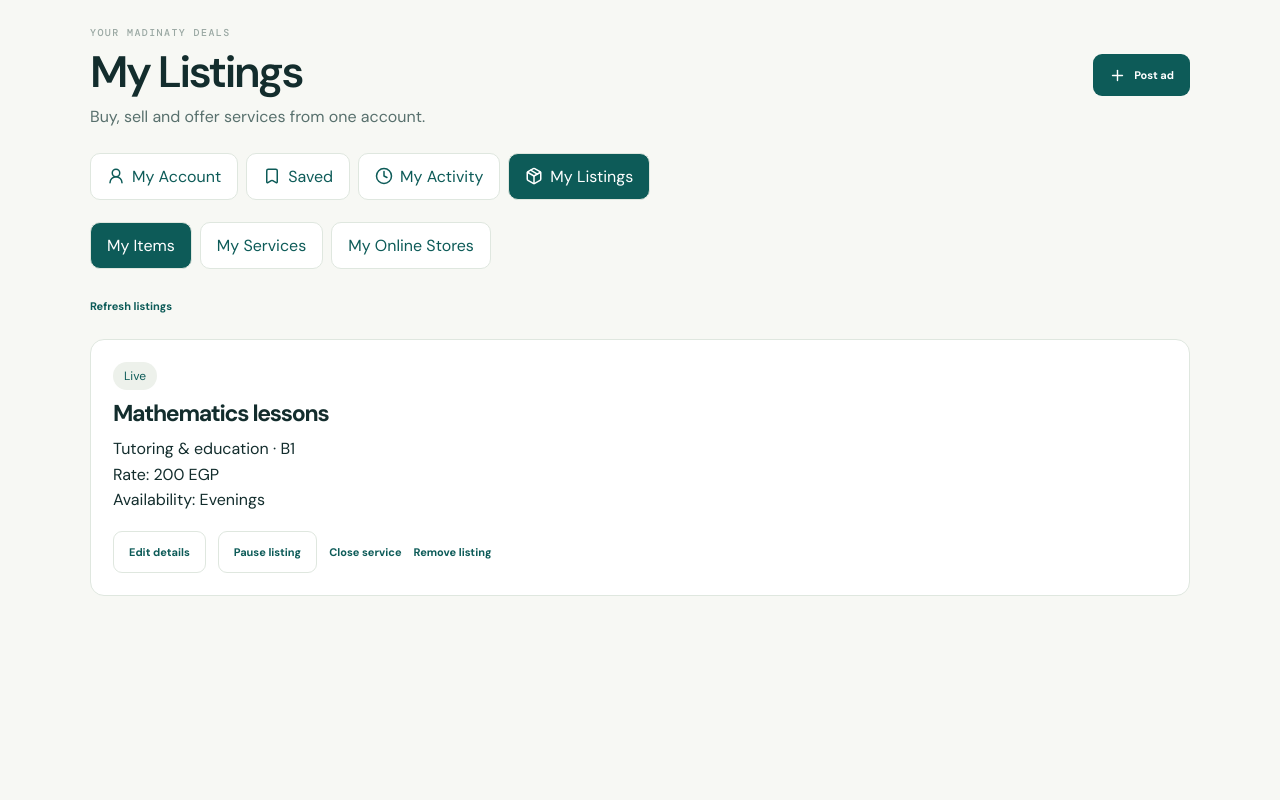
Test: requires confirmation before closing a service and sends its version
Click the button "Close service" at (365, 552), box [329,537,402,567]
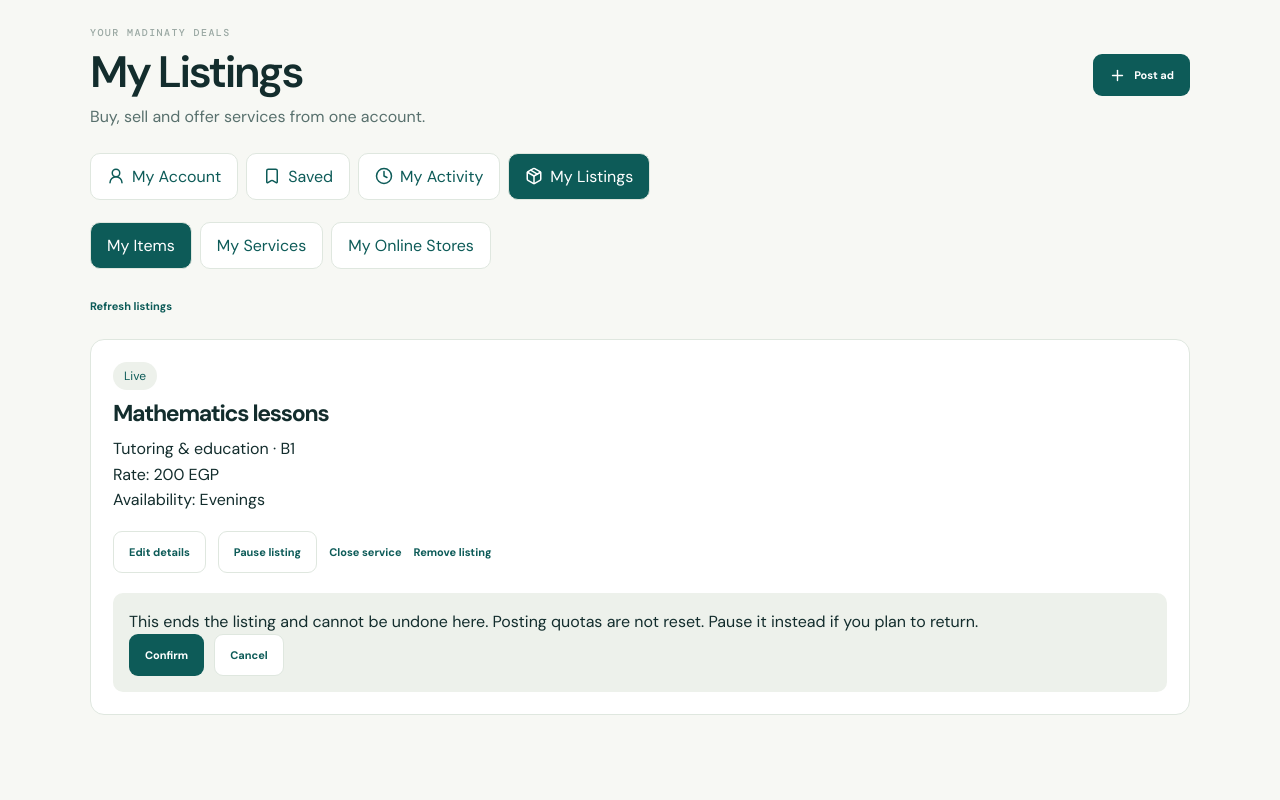
Click the button "Confirm" at (167, 655), box [129,634,204,676]
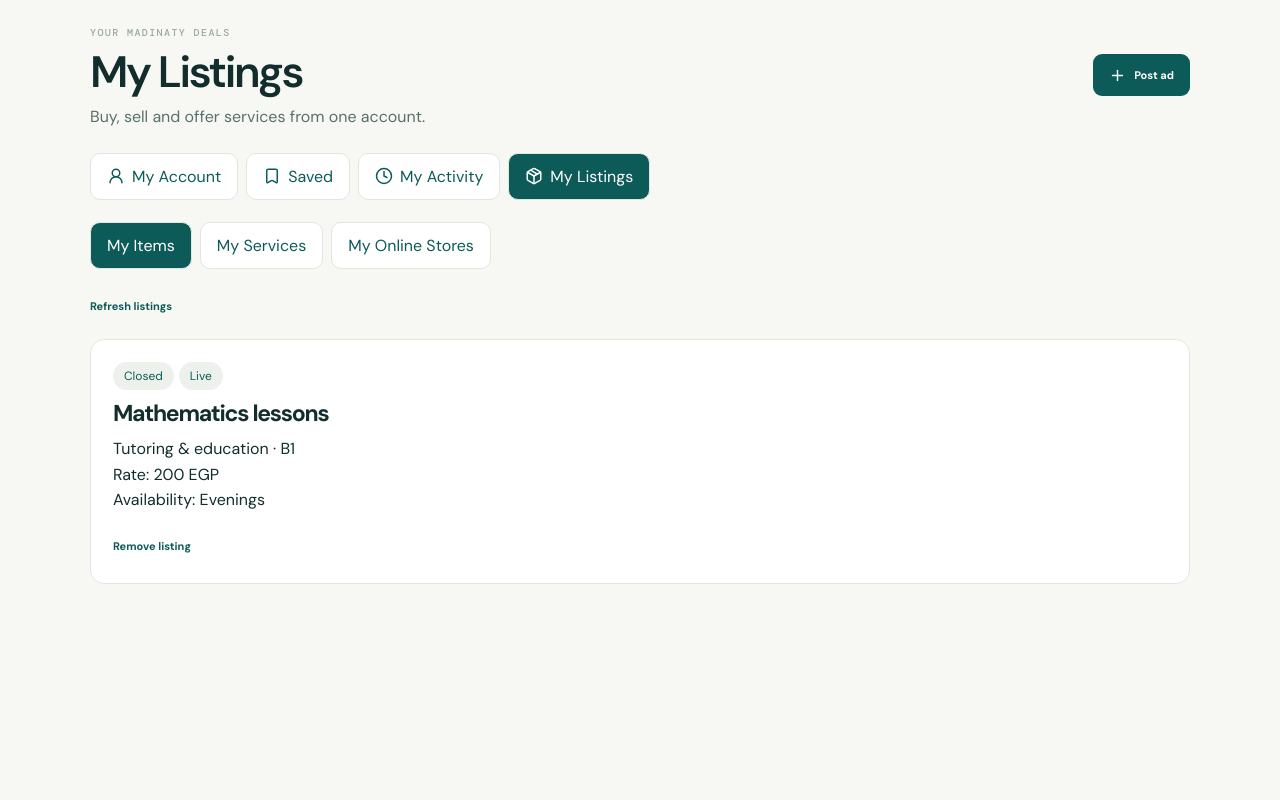
Check: the text "Closed" is shown, box [113,362,174,390]
